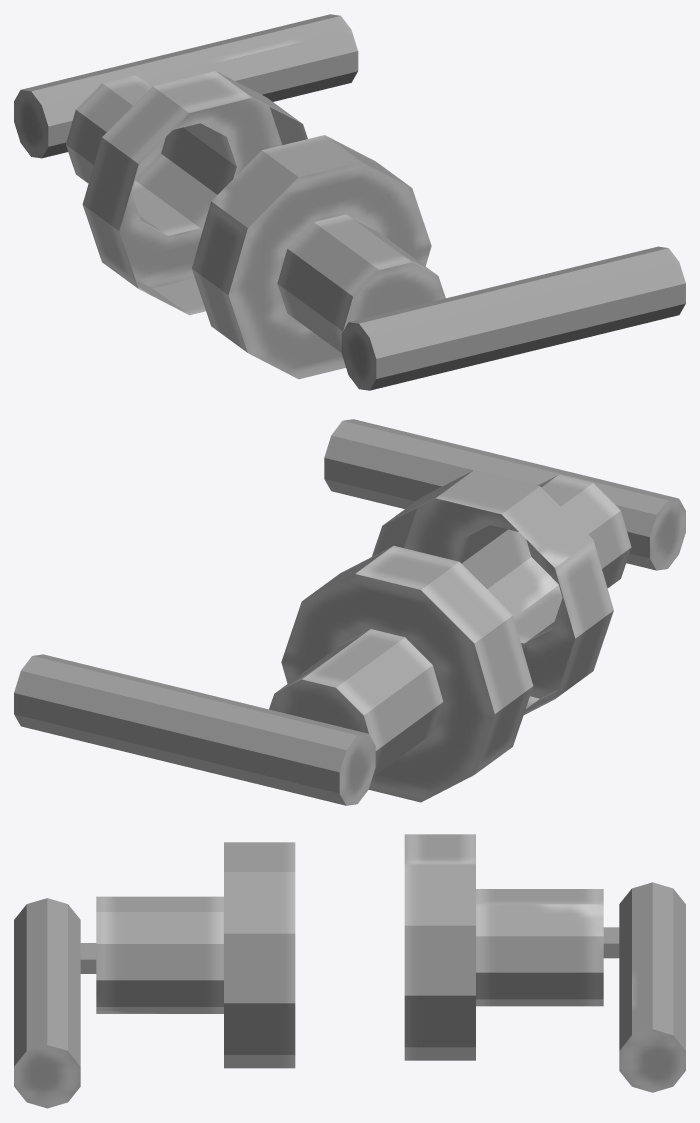
File: Door_005_HandleRight_001.fbx
The picture shows the model from 3 angles, top to bottom: view 1: azimuth 30°, elevation 25°; view 2: azimuth 150°, elevation 25°; view 3: azimuth 270°, elevation 25°; orthographic projection. The views are drawn at different scales.
Parts seen in each view (by area): view 1: Door_005_HandleRight_001; view 2: Door_005_HandleRight_001; view 3: Door_005_HandleRight_001.
Part boxes in pixels (box(x1,y1,x2,y2)): Door_005_HandleRight_001: box(14, 14, 685, 390); Door_005_HandleRight_001: box(14, 419, 685, 805); Door_005_HandleRight_001: box(14, 834, 685, 1108).
Bounding box in the file's own units: 28.73 × 15.18 × 47.08.
